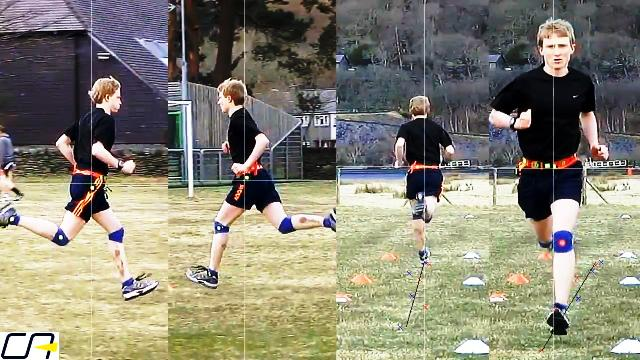berlari: (488, 11, 614, 345), (0, 73, 162, 303), (186, 73, 336, 283), (393, 84, 457, 268)
